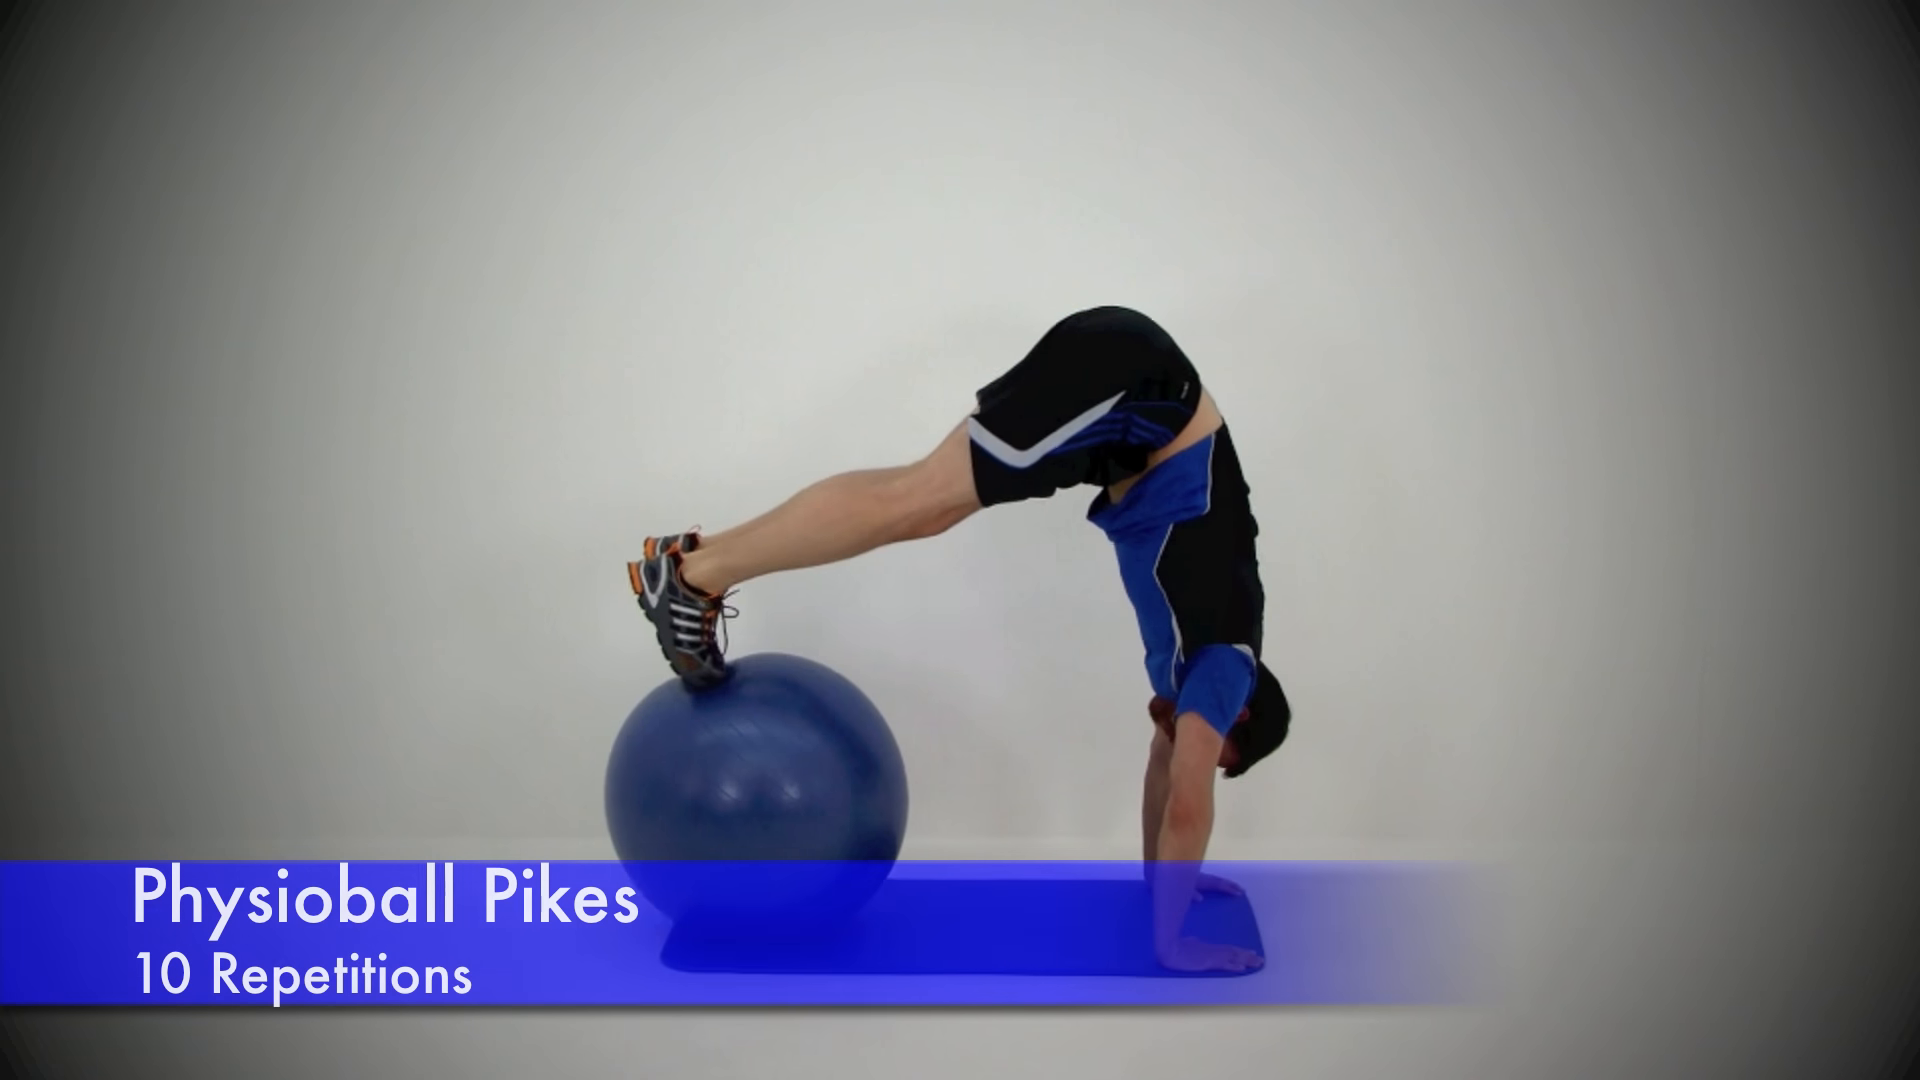yogaball: (600, 645, 915, 955)
